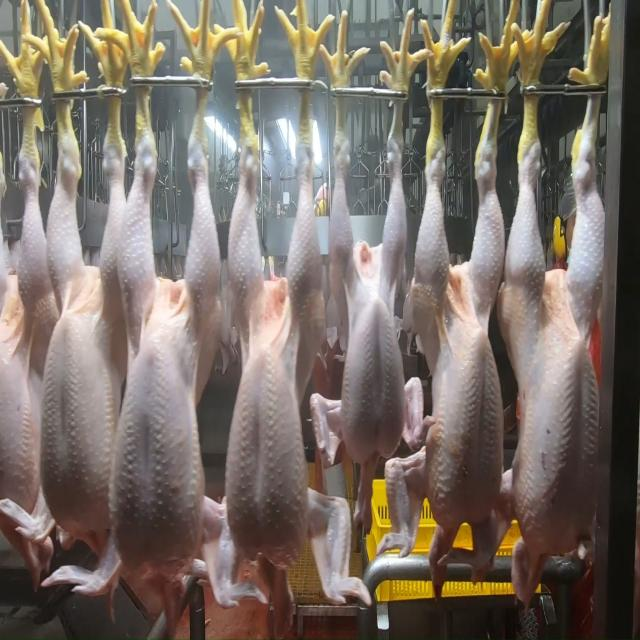chicken: (120, 130, 222, 580), (222, 154, 321, 571), (516, 132, 607, 560), (48, 134, 138, 556), (416, 140, 505, 527), (332, 143, 413, 458), (0, 156, 49, 543)
